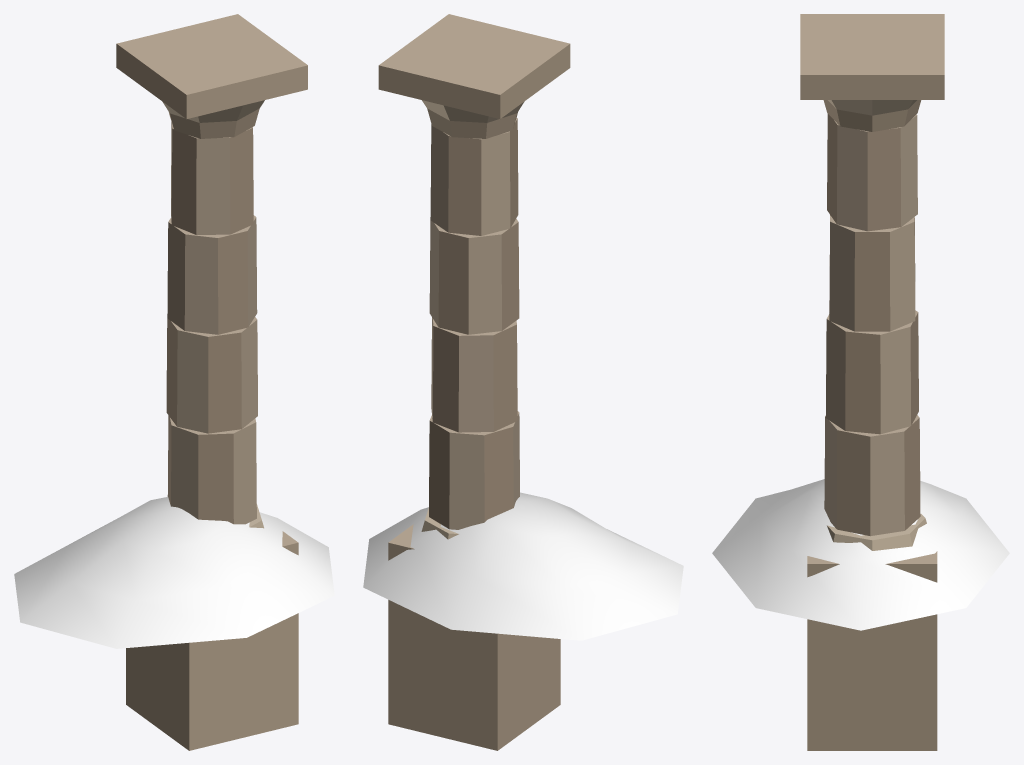
File: ruinas_columna_a_ligero.glb
3 renders of one model, left to right at view 1: azimuth 30°, elevation 25°; view 2: azimuth 150°, elevation 25°; view 3: azimuth 270°, elevation 25°, orthographic. The views are drawn at different scales.
Visible parts, largest first — view 1: ruinas_columna_a, ruinas_columna_a_arena; view 2: ruinas_columna_a, ruinas_columna_a_arena; view 3: ruinas_columna_a, ruinas_columna_a_arena.
Part boxes in pixels (x1,y1,x2,y2): ruinas_columna_a: (116,14,307,750); ruinas_columna_a_arena: (14,497,334,648); ruinas_columna_a: (378,14,570,750); ruinas_columna_a_arena: (363,492,683,640); ruinas_columna_a: (800,14,944,750); ruinas_columna_a_arena: (712,479,1009,630).
Size of the model in its own units: 3.2 by 6.54 by 2.6.
